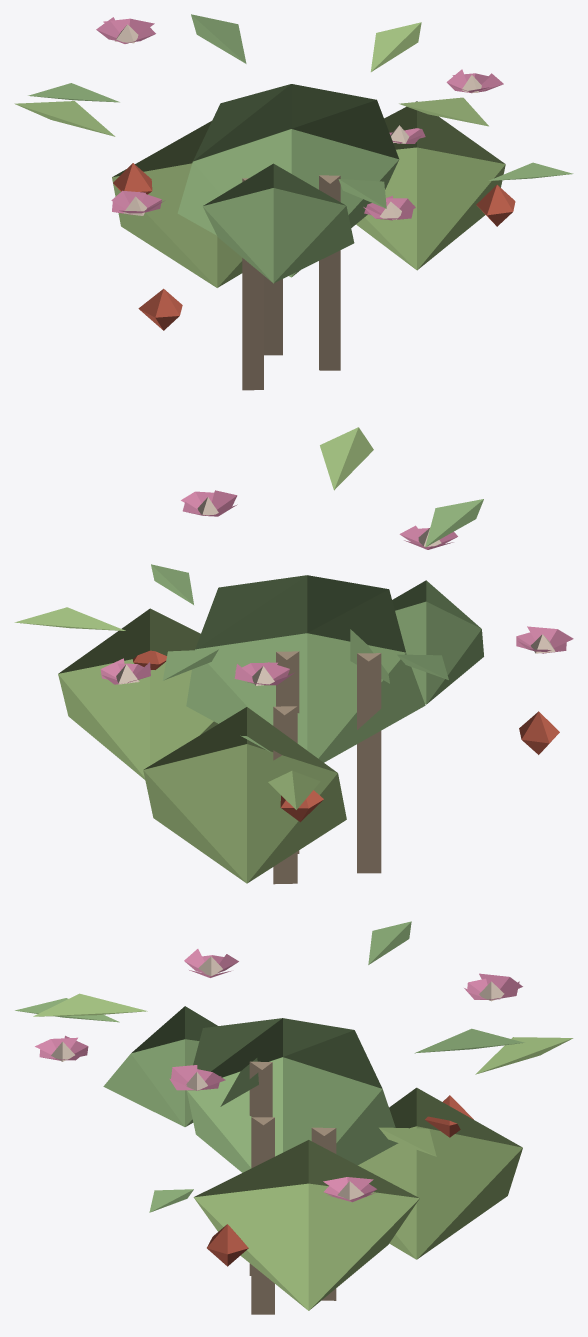
The model's file is guan.zhen__bloom.glb.
3 renders of one model, top to bottom at view 1: azimuth 30°, elevation 25°; view 2: azimuth 150°, elevation 25°; view 3: azimuth 270°, elevation 25°, orthographic. The views are drawn at different scales.
Visible parts, largest first — view 1: guan.zhen__bloom; view 2: guan.zhen__bloom; view 3: guan.zhen__bloom.
Boxes of the visible parts, <box> form: guan.zhen__bloom: <box>14,14,573,390</box>; guan.zhen__bloom: <box>14,427,573,884</box>; guan.zhen__bloom: <box>15,921,573,1314</box>.
Bounding box in the file's own units: 2.75 × 1.93 × 2.98.
